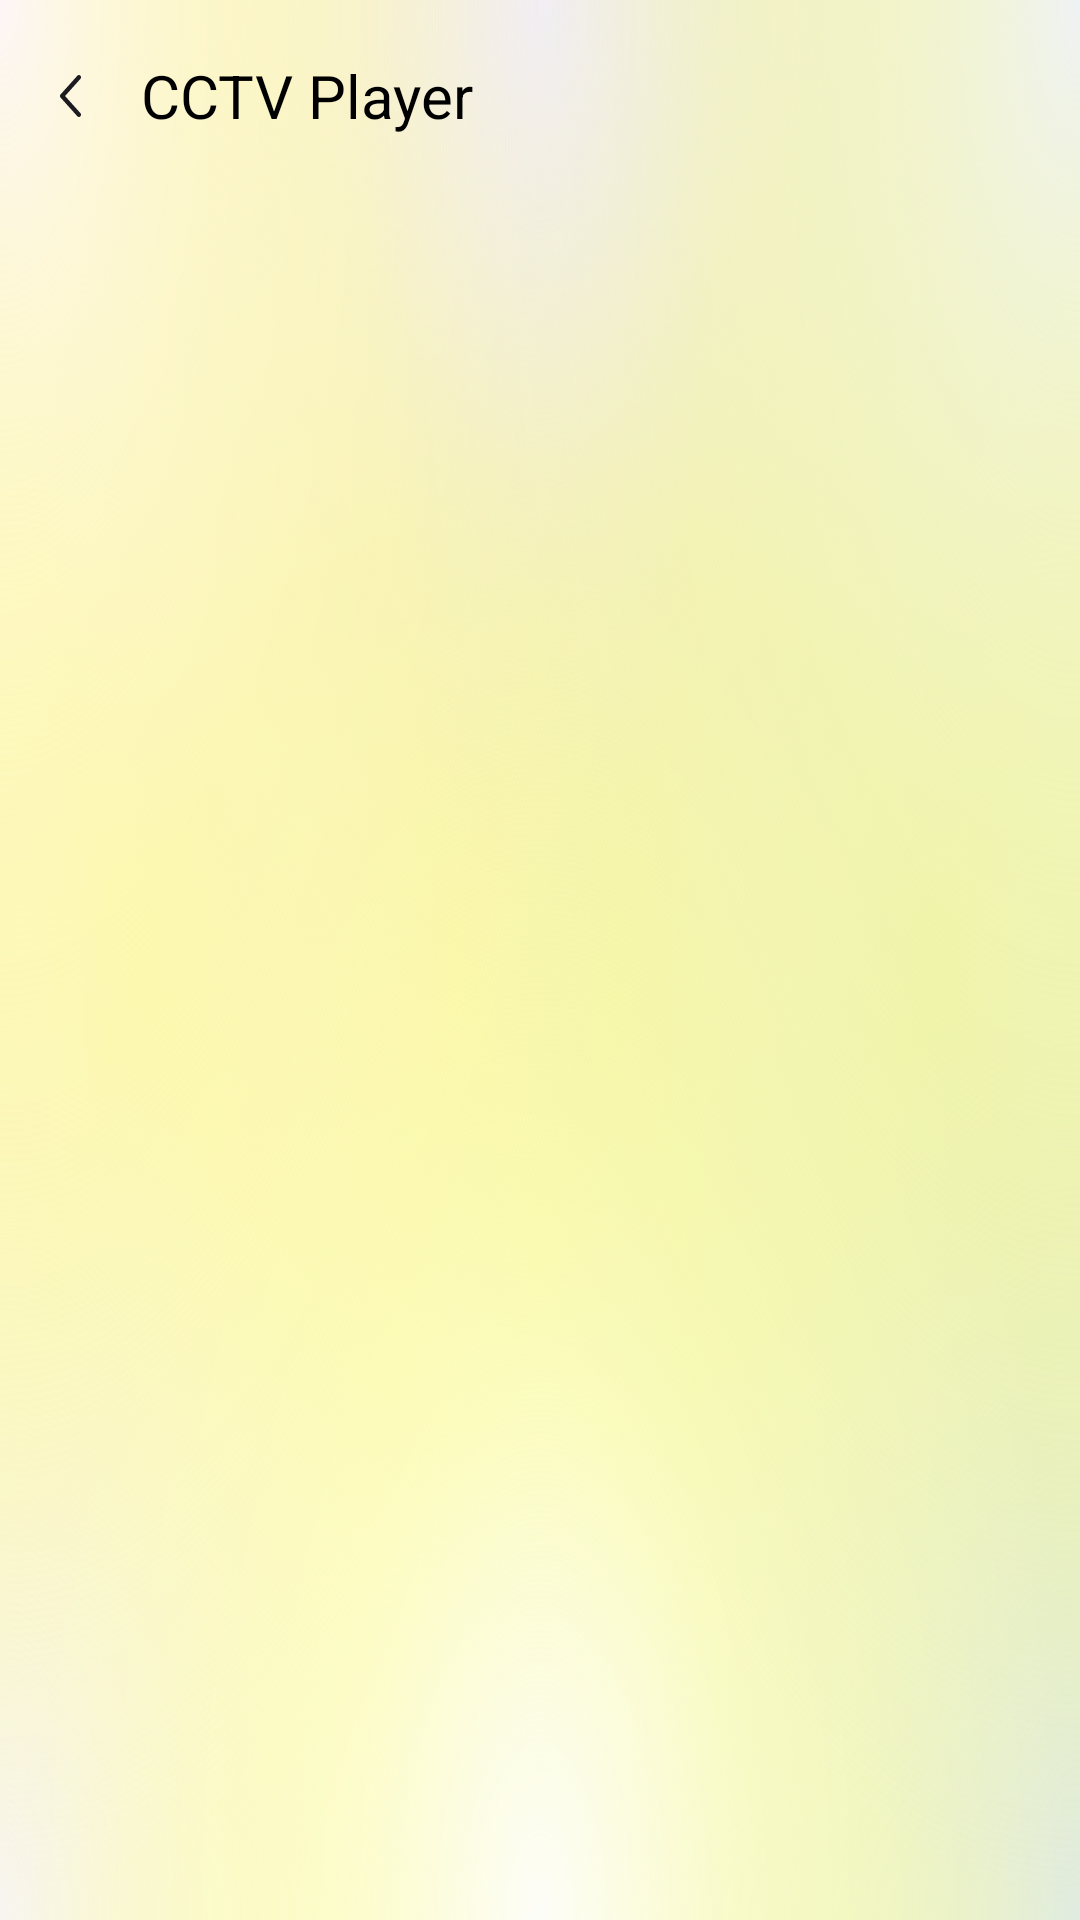

Point at icon controls on the screen. Image size 1080 × 1920, points as [x,y].
back arrow: [70,96]
